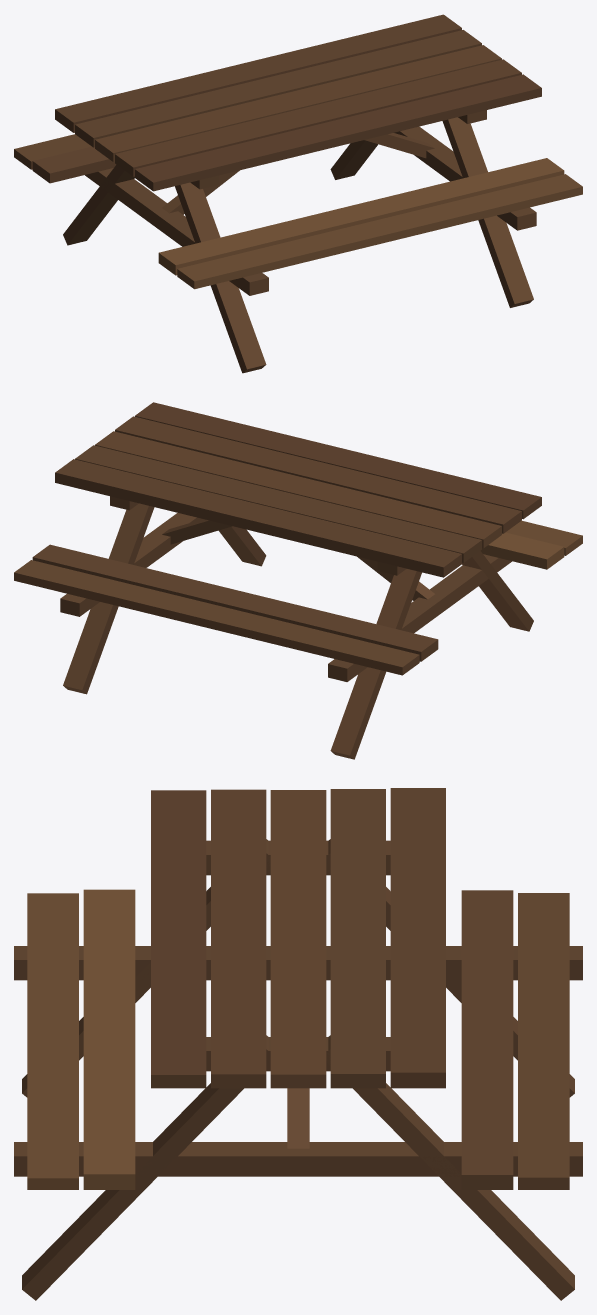
The model's file is picnic_table.glb.
3 views of the same model, one above another, from view 1: azimuth 30°, elevation 25°; view 2: azimuth 150°, elevation 25°; view 3: azimuth 270°, elevation 25° (orthographic). The views are drawn at different scales.
Parts seen in each view (by area): view 1: picnic_table; view 2: picnic_table; view 3: picnic_table.
Part boxes in pixels (box(x1,y1,x2,y2)): picnic_table: box(14, 14, 582, 373); picnic_table: box(14, 402, 582, 759); picnic_table: box(14, 788, 582, 1300).
Size of the model in its own units: 1.8 by 0.7822 by 1.52.
